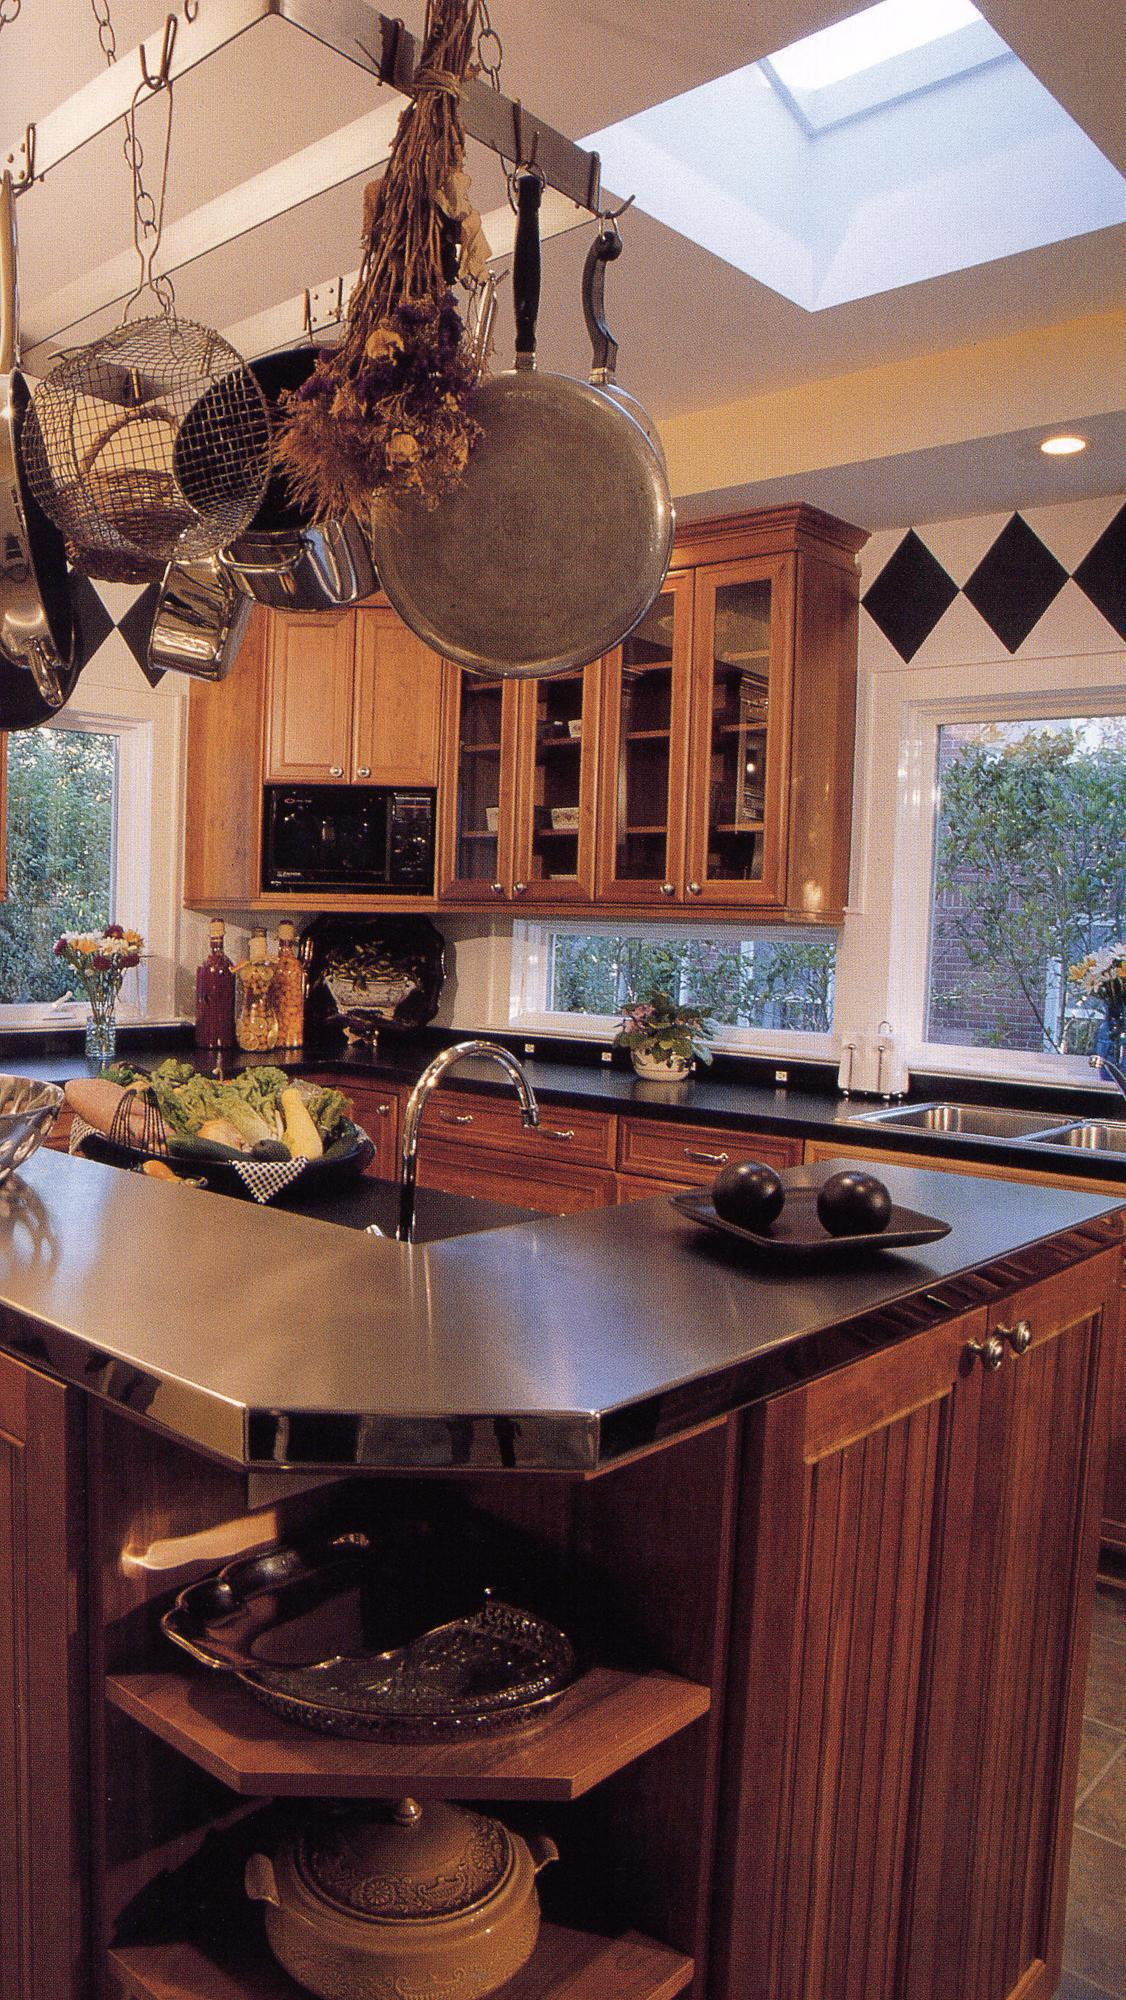Ventana: (921, 709, 1125, 1078), (38, 755, 165, 1037)
